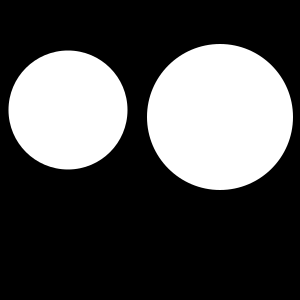circle: (177, 96, 213, 132)
rectangle: (147, 44, 293, 190), (8, 50, 128, 169)
triangle: (218, 136, 258, 176)
